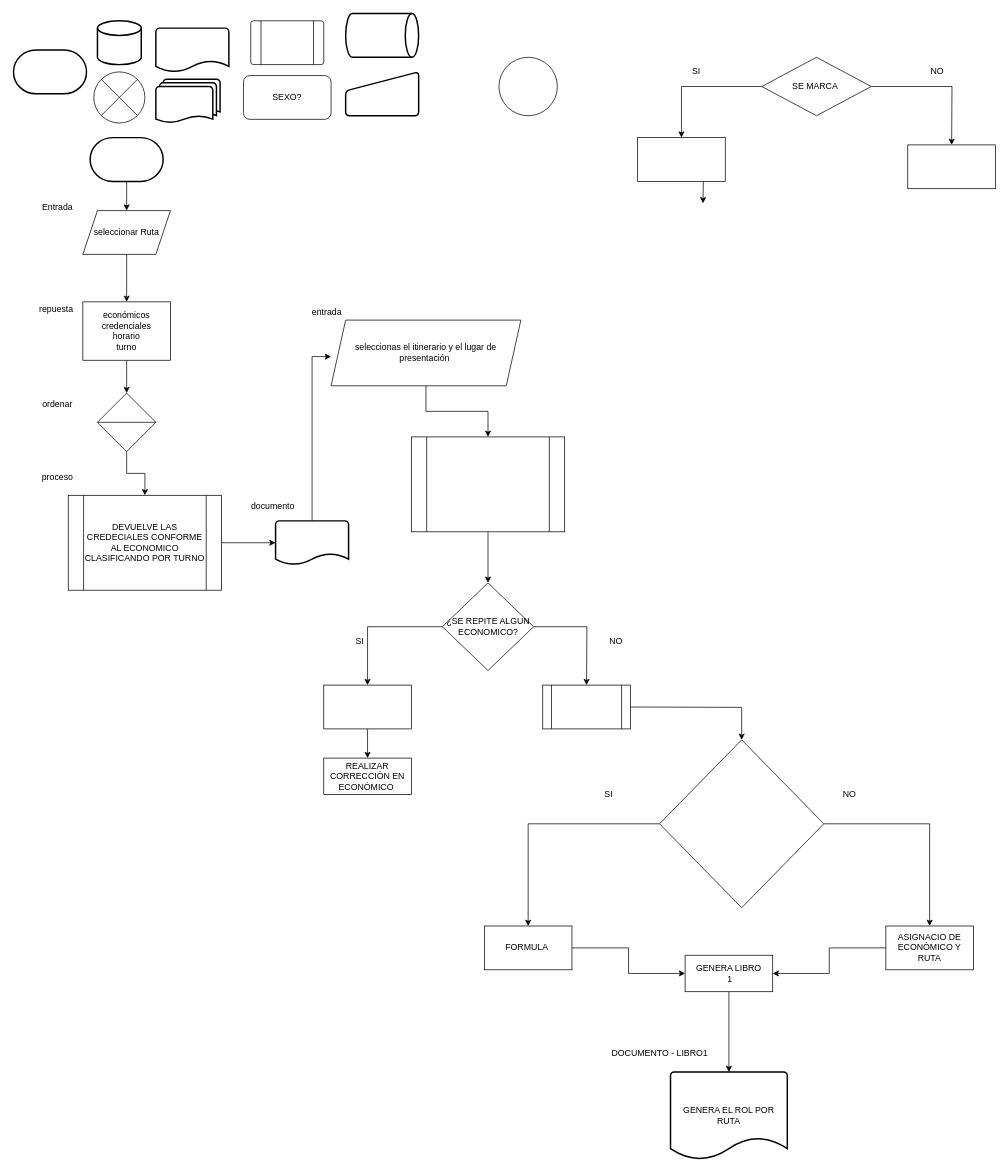
Some shapes in this 1008 by 1172 pixel diagram are drawn without their labels. Here are the shapes that lost their labels. From the top down, the centre of each, then its label:
point (126, 159): Inicio
point (488, 484): DETERMINA ERROR CUÁNDO SE REPITE UNA CREDENCIAL O UN ECONOMICO
point (311, 542): genera hoja
point (367, 706): NO SE PUEDE ASIGNAR EL ECONÓMICO EN MAS DE UNA RUTA
point (586, 706): Asignar Bus
point (741, 823): ALGUN OPERADOR ESTA ASIGNADO A MAS DE UNA UNIDAD
